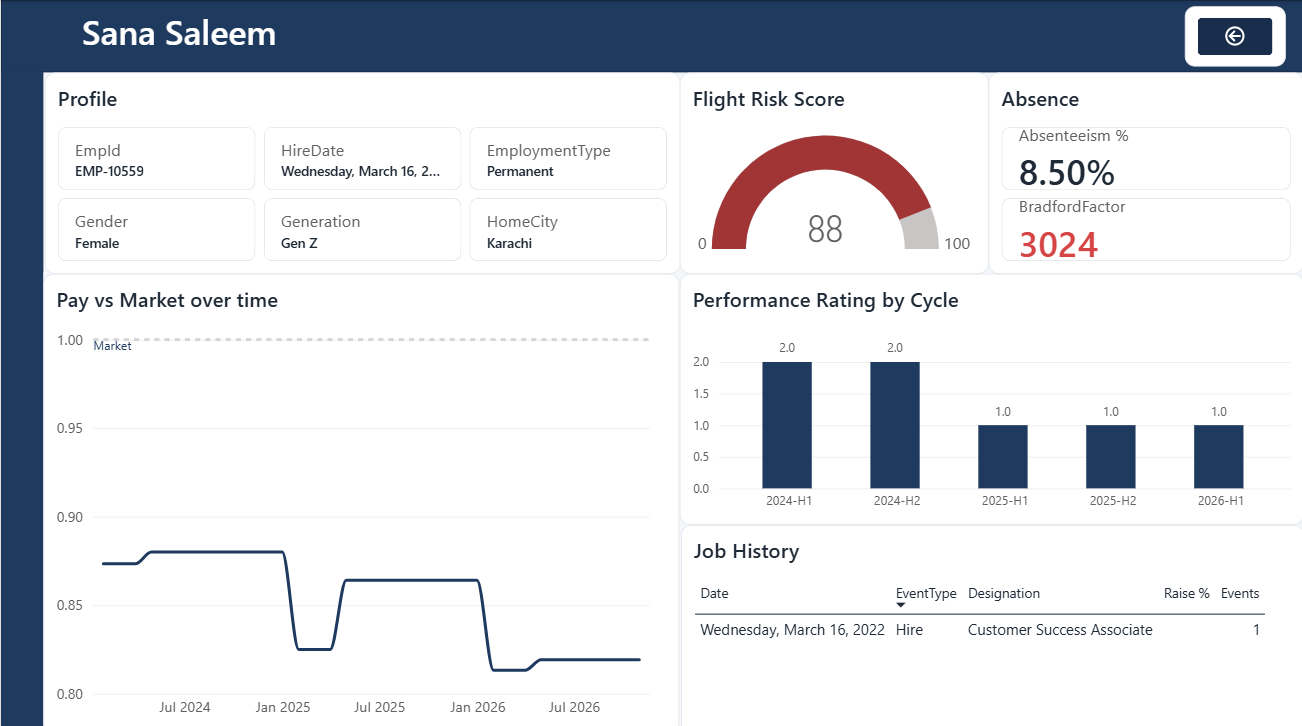

The dashboard page shown, as its layout file describes it:
{"tool":"powerbi","page":{"name":"Employee 360","canvas":[1280,720],"ordinal":2},"visuals":[{"type":"shape","box":[0,0,1280.3,70.9],"z":0},{"type":"shape","box":[0,69.9,41.7,650.3],"z":1000},{"type":"cardVisual","fields":{"Data":["Min(Dim_Employee.FullName)"]},"box":[51.5,0,930,60],"z":2000},{"type":"actionButton","box":[1162.3,6.5,99.4,58.9],"z":3000},{"type":"cardVisual","title":"Profile","fields":{"Data":["Min(Dim_Employee.EmpId)","Min(Dim_Employee.HireDate)","Min(Dim_Employee.EmploymentType)","Min(Dim_Employee.Gender)","Min(Dim_Employee.Generation)","Min(Dim_Employee.HomeCity)"]},"box":[42.4,71.6,624.1,197.4],"z":4000},{"type":"gauge","title":"Flight Risk Score","fields":{"Y":["_Measures.Flight Risk Score (Emp)"]},"box":[666.5,71.6,303.4,197.4],"z":5000},{"type":"cardVisual","title":"Absence","fields":{"Data":["_Measures.Absenteeism %","Sum(Agg_Absence_Employee.BradfordFactor)"]},"box":[969.9,71.6,310.1,197.4],"z":6000},{"type":"lineChart","title":"Pay vs Market over time","fields":{"Category":["Dim_Date.MonthEnd"],"Y":["_Measures.Compa-Ratio"]},"box":[42,269,624,451],"z":7000},{"type":"clusteredColumnChart","title":"Performance Rating by Cycle","fields":{"Category":["Fact_Performance.ReviewCycle"],"Y":["_Measures.Avg Performance Rating"]},"box":[666.5,269,613.5,246.5],"z":8000},{"type":"tableEx","title":"Job History","fields":{"Values":["Dim_Date.Date","Fact_Job_History.EventType","Dim_Designation.DesignationName","Sum(Fact_Job_History.SalaryChangePct)","CountNonNull(Fact_Job_History.EventType)"]},"box":[667,515,613,205],"z":9000}]}

Visuals, with their boxes in screenshot pixels (x1, y1, x2, y2), scaled from the page's 1280x720 canvas onto the 1302x726 screenshot:
shape: locate(0, 0, 1301, 71)
shape: locate(0, 70, 42, 725)
cardVisual - Min(Dim_Employee.FullName): locate(52, 0, 998, 60)
actionButton: locate(1182, 7, 1283, 66)
"Profile" cardVisual: locate(43, 72, 678, 271)
"Flight Risk Score" gauge: locate(678, 72, 987, 271)
"Absence" cardVisual: locate(987, 72, 1301, 271)
"Pay vs Market over time" lineChart: locate(43, 271, 677, 725)
"Performance Rating by Cycle" clusteredColumnChart: locate(678, 271, 1301, 520)
"Job History" tableEx: locate(678, 519, 1301, 725)
